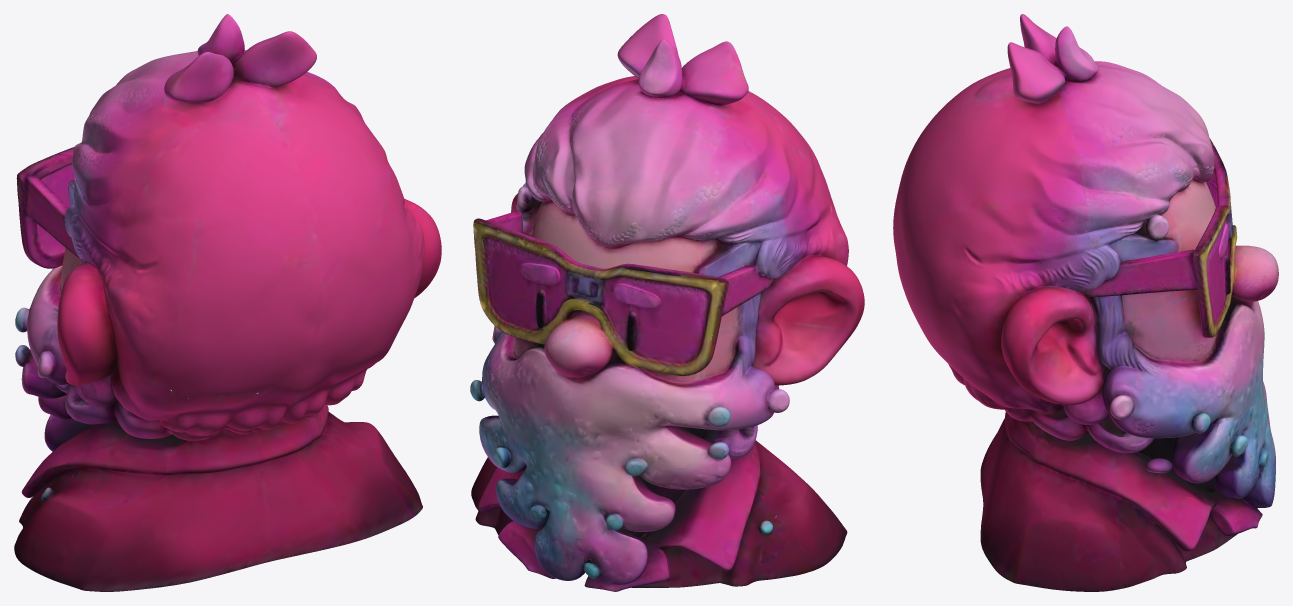
Rendered from Hero-Low.glb.
The picture shows the model from 3 angles, left to right: view 1: azimuth 30°, elevation 25°; view 2: azimuth 150°, elevation 25°; view 3: azimuth 270°, elevation 25°; orthographic projection. The views are drawn at different scales.
Visible parts, largest first — view 1: tripo_node_839267ff-0424-465e-bae2-b9e205801d66; view 2: tripo_node_839267ff-0424-465e-bae2-b9e205801d66; view 3: tripo_node_839267ff-0424-465e-bae2-b9e205801d66.
Boxes of the visible parts, box(x1,y1,x2,y2) form: tripo_node_839267ff-0424-465e-bae2-b9e205801d66: box(14, 14, 441, 591); tripo_node_839267ff-0424-465e-bae2-b9e205801d66: box(470, 14, 864, 591); tripo_node_839267ff-0424-465e-bae2-b9e205801d66: box(893, 14, 1278, 591).
Size of the model in its own units: 0.7554 by 0.9797 by 0.7122.
1 material, 1 textured.
